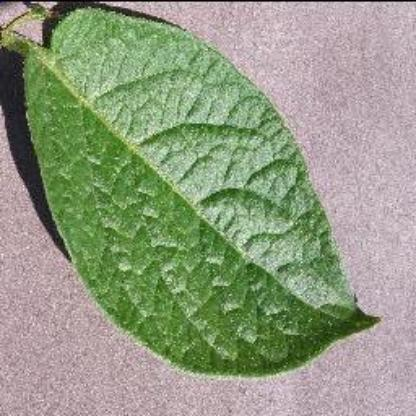Healthy-plant: (9, 0, 402, 404)
